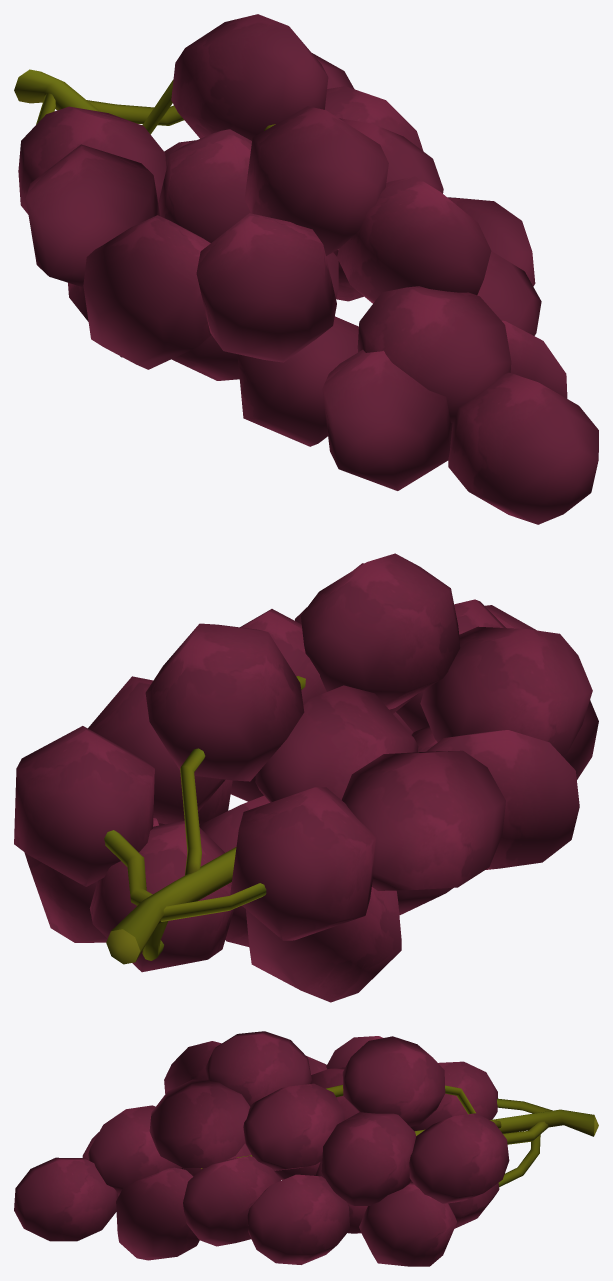
File: Grapes_01.fbx
3 renders of one model, top to bottom at view 1: azimuth 30°, elevation 25°; view 2: azimuth 150°, elevation 25°; view 3: azimuth 270°, elevation 25°, orthographic. The views are drawn at different scales.
Parts seen in each view (by area): view 1: Grapes_01; view 2: Grapes_01; view 3: Grapes_01.
Boxes of the visible parts, x1,y1,x2,y2 form: Grapes_01: [14, 14, 598, 524]; Grapes_01: [14, 553, 598, 1002]; Grapes_01: [14, 1031, 598, 1266].
Size of the model in its own units: 37.14 by 25.15 by 68.09.
1 material, 1 textured.
